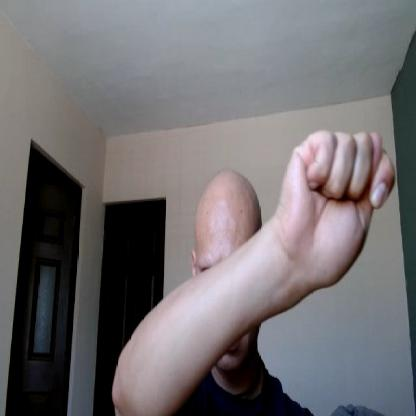T: (281, 125, 396, 292)
